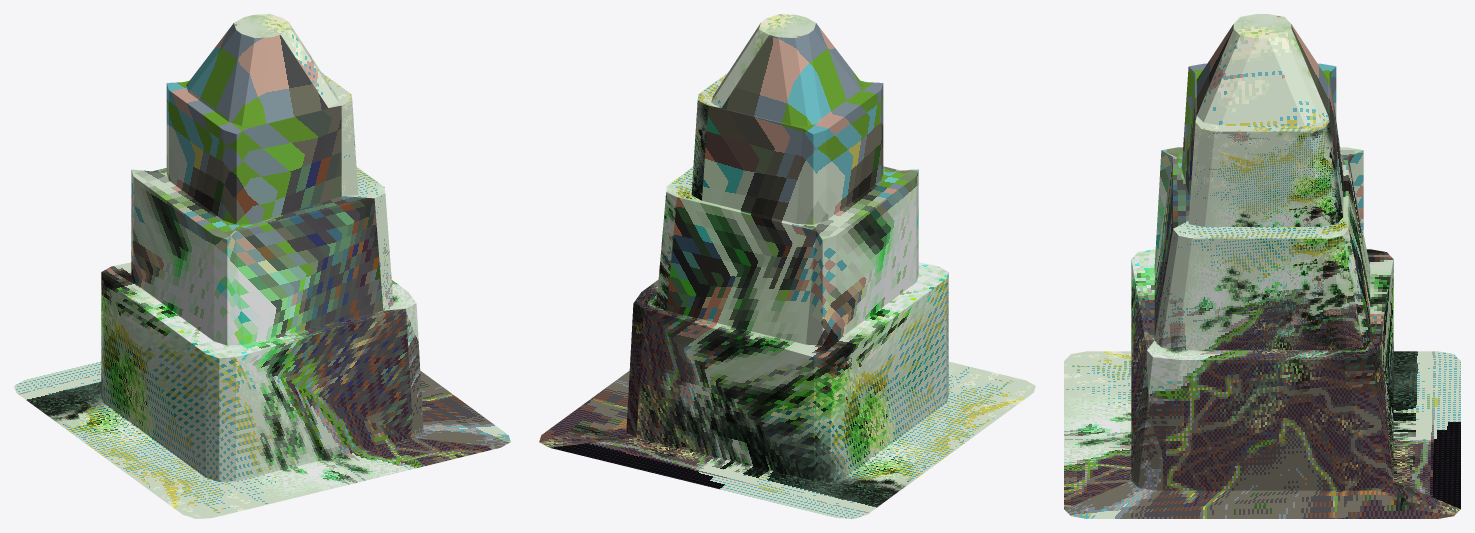
Rendered from piramimountain.gltf.
The picture shows the model from 3 angles, left to right: view 1: azimuth 30°, elevation 25°; view 2: azimuth 150°, elevation 25°; view 3: azimuth 270°, elevation 25°; orthographic projection. The views are drawn at different scales.
Visible parts, largest first — view 1: piramidemonta; view 2: piramidemonta; view 3: piramidemonta.
Part boxes in pixels (x1,y1,x2,y2): piramidemonta: (14,14,510,518); piramidemonta: (539,14,1035,518); piramidemonta: (1064,14,1460,518).
Size of the model in its own units: 23.56 by 26.8 by 23.56.
1 material, 1 textured.
